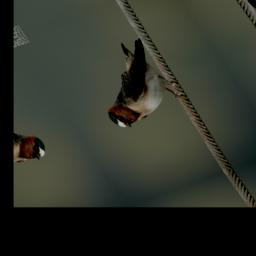Swallow: (67, 34, 193, 136)
